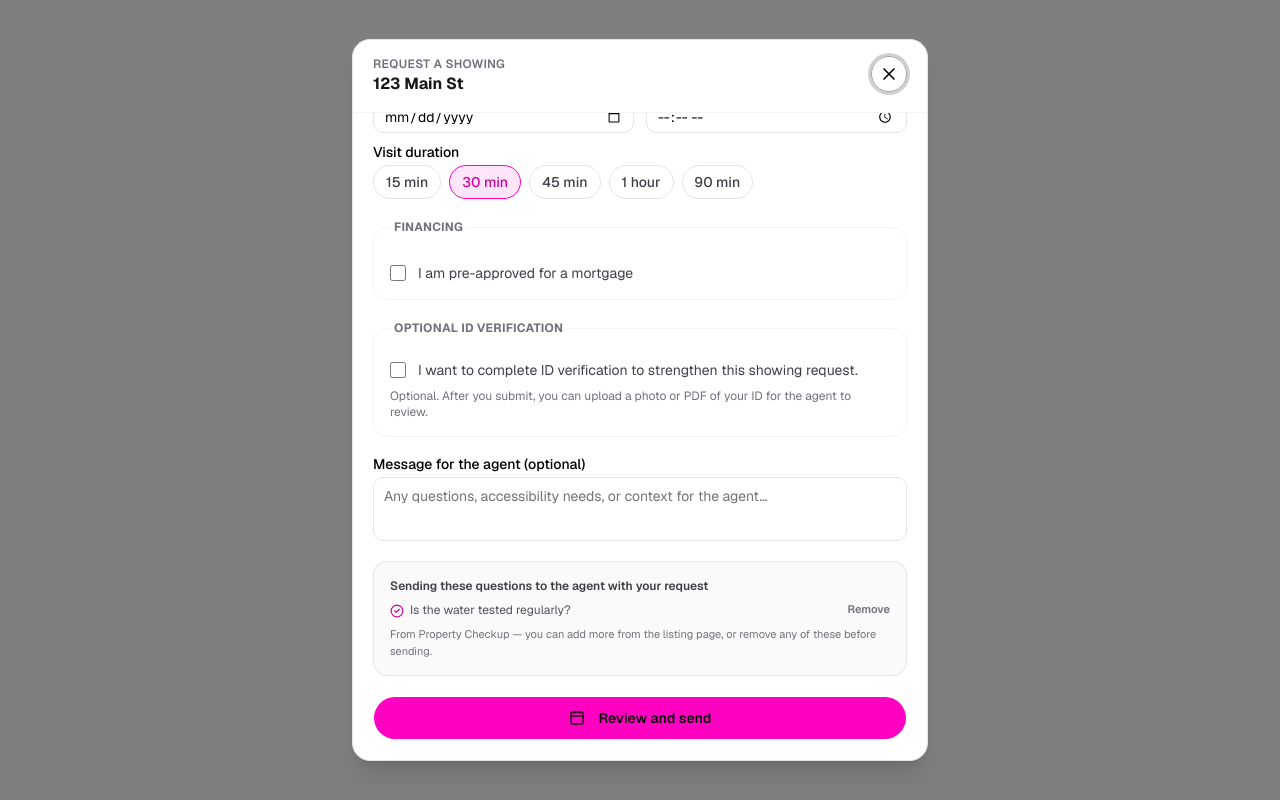
Scenario: signed in › lets the buyer remove a pending showing question before submitting
The width and height of the screenshot is (1280, 800).
(page scrolled)
Check: the text "Is the water tested regularly?" is shown, box [390,602,571,618]
Click the button named "remove \"is the water tested regularly?\" from this request". click: (869, 609)
box: [848,602,890,617]
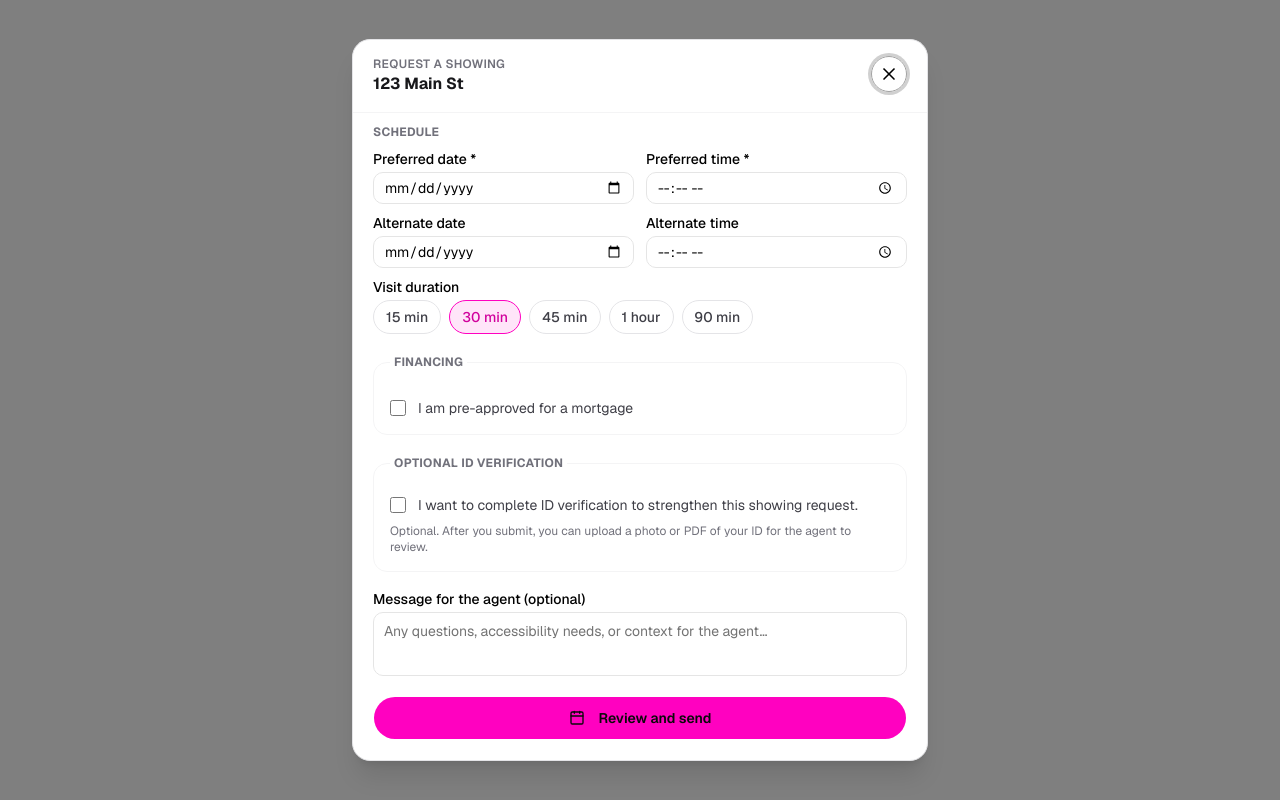
Check: the text "Is the water tested regularly?" is gone
